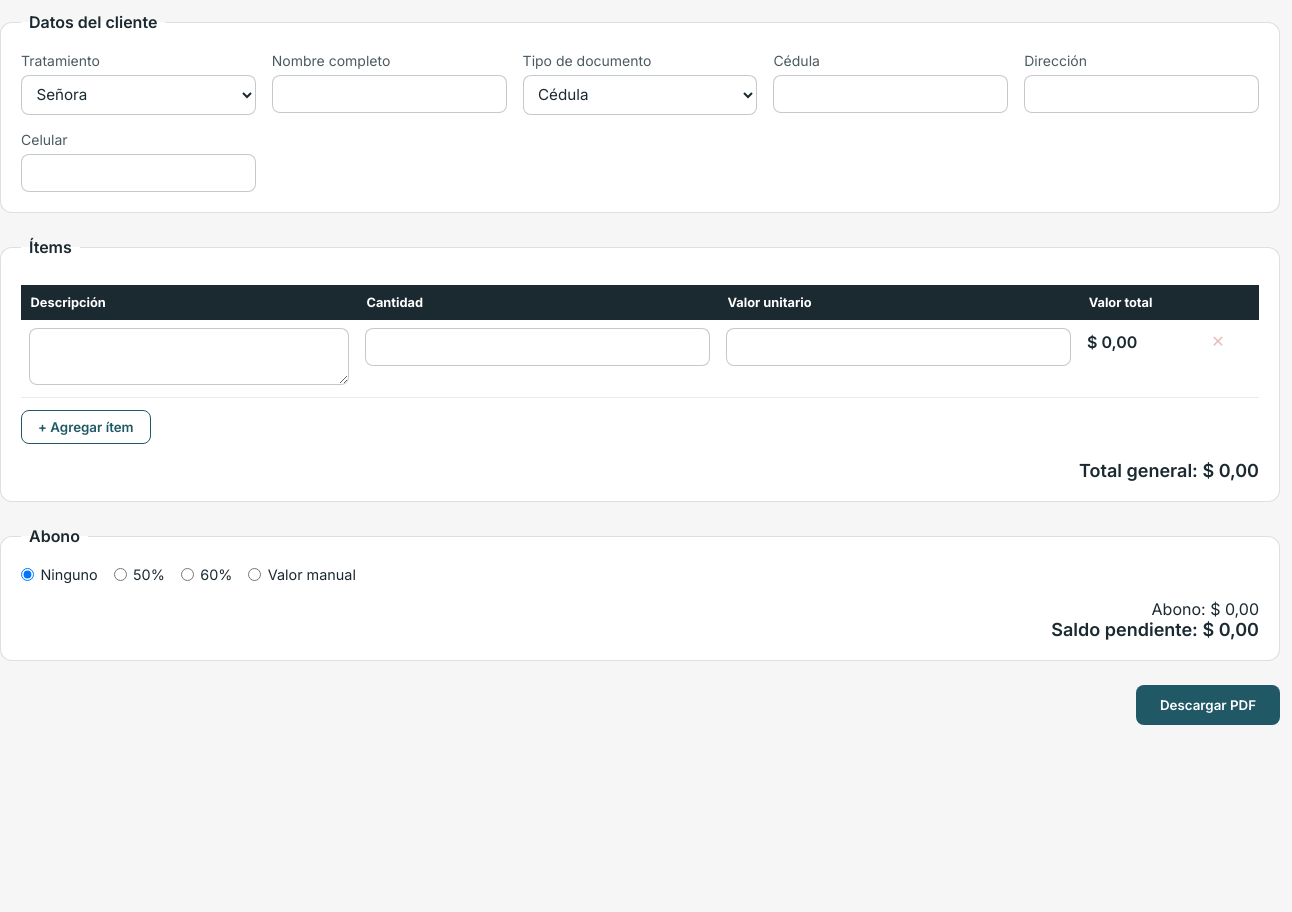
Test: CotizacionForm › muestra errores de validación cuando faltan datos obligatorios
Click the button "Descargar PDF": (1208, 705) [1136, 685, 1280, 725]
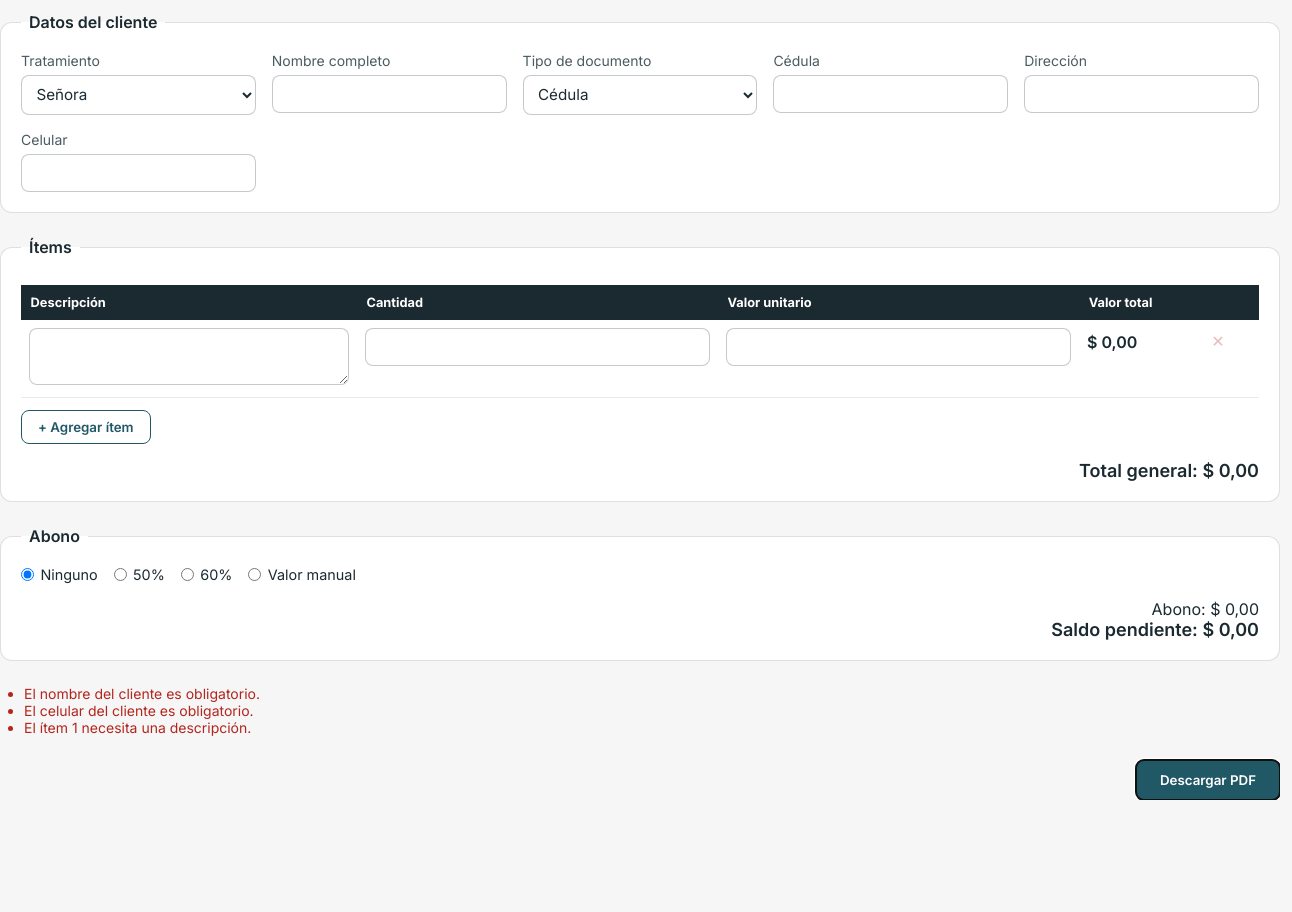
Expected: the message shows "El nombre del cliente es obligatorio.", [24, 685, 260, 702]
